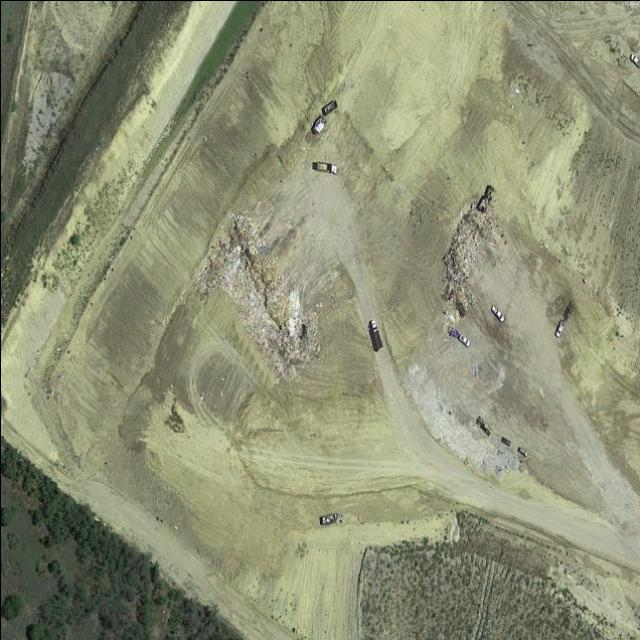dump_site: (189, 200, 329, 408), (432, 172, 503, 327)
